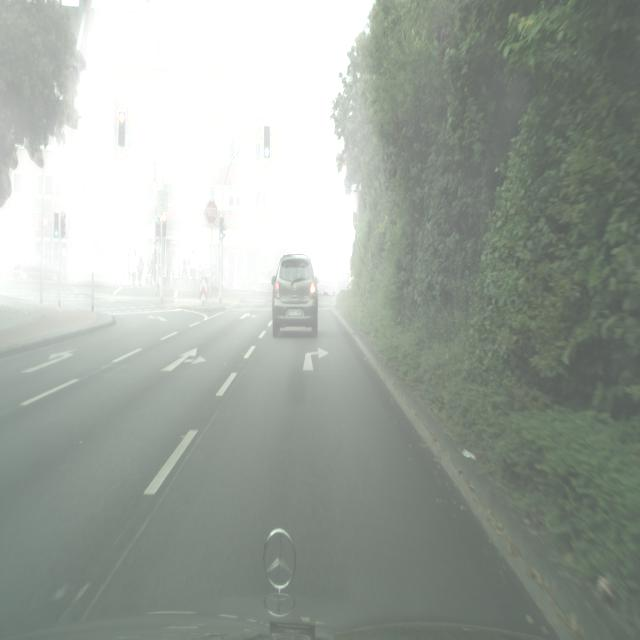person: (129, 251, 138, 288), (149, 249, 157, 287), (190, 252, 198, 289), (137, 254, 145, 287), (182, 252, 189, 288), (166, 249, 172, 285)
truck: (272, 254, 318, 336), (13, 254, 59, 281), (318, 271, 334, 295), (338, 271, 353, 292)
